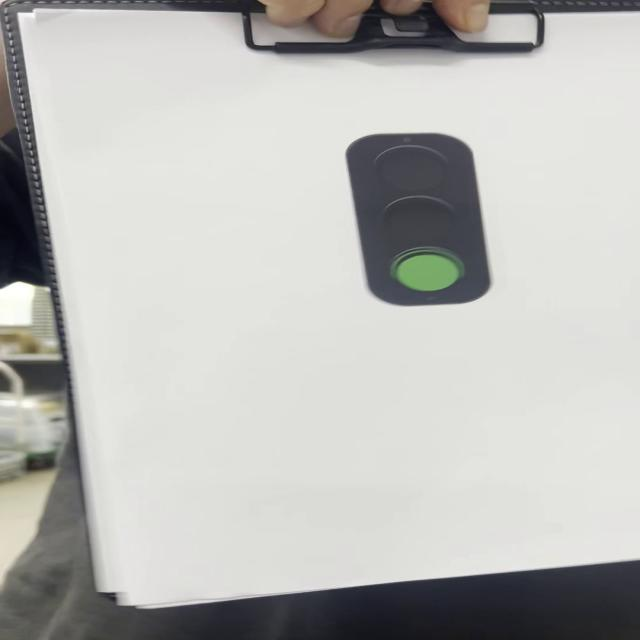green: (345, 133, 494, 307)
